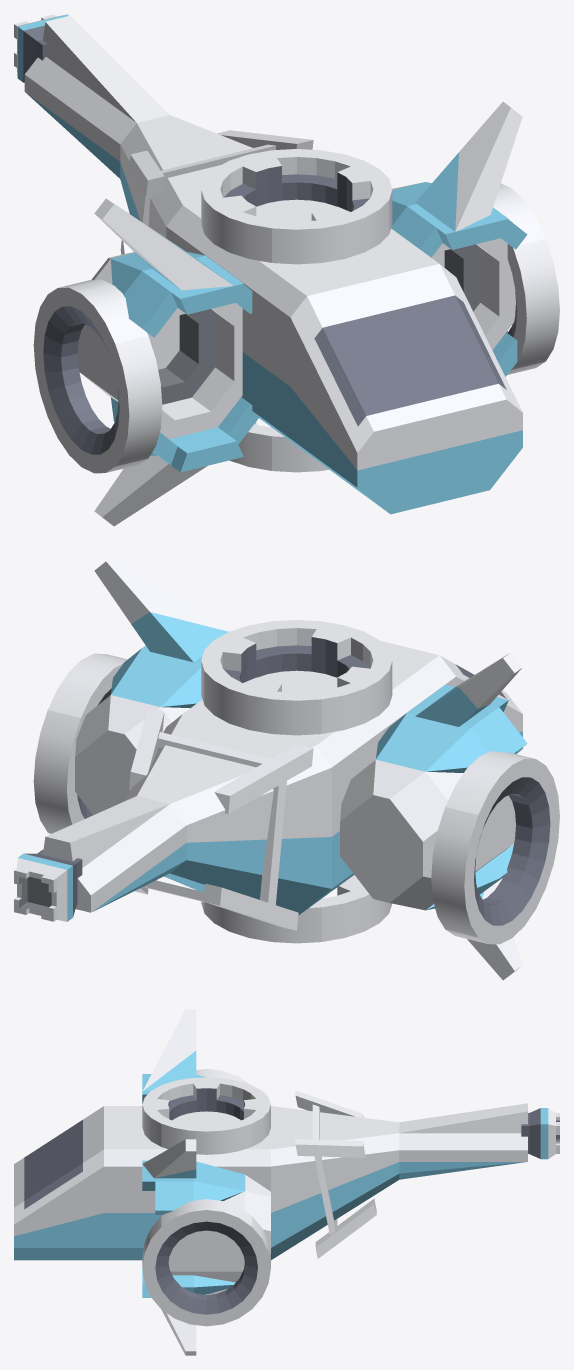
Rendered from Shuttle.fbx.
3 views of the same model, one above another, from view 1: azimuth 30°, elevation 25°; view 2: azimuth 150°, elevation 25°; view 3: azimuth 270°, elevation 25° (orthographic). The views are drawn at different scales.
Visible parts, largest first — view 1: mergedBlocks; view 2: mergedBlocks; view 3: mergedBlocks.
Boxes of the visible parts, x1=… form: mergedBlocks: x1=14, y1=14, x2=559, y2=526; mergedBlocks: x1=14, y1=555, x2=559, y2=980; mergedBlocks: x1=14, y1=1009, x2=559, y2=1355.
Bounding box in the file's own units: 260 × 186 × 425.
